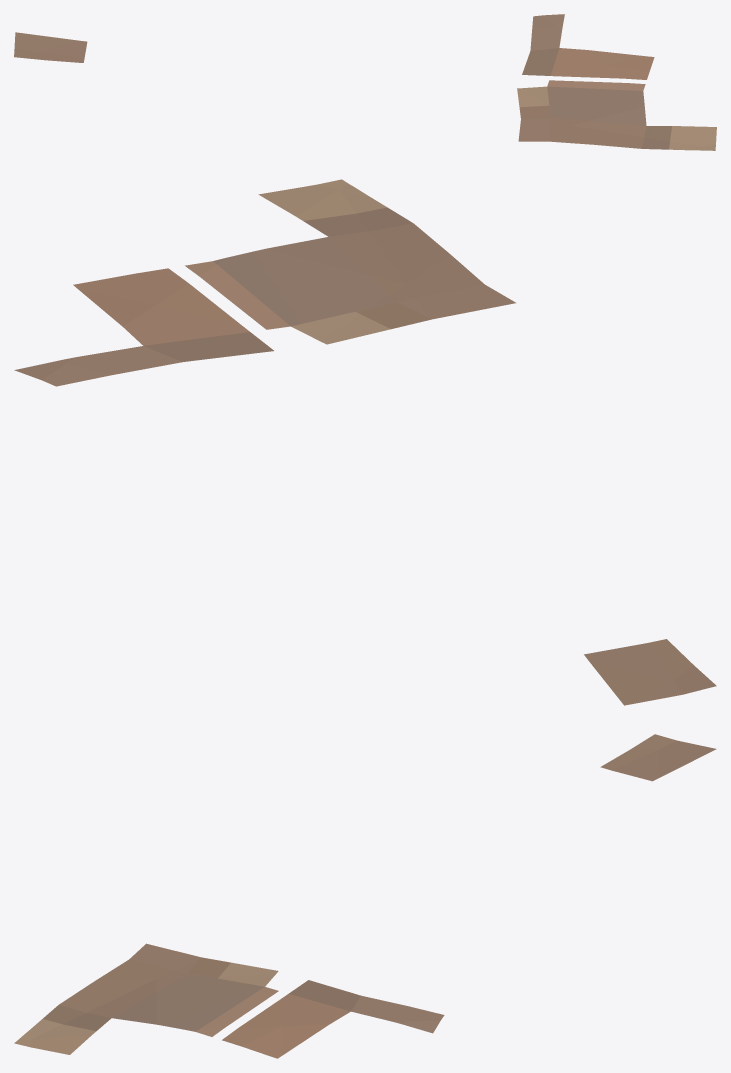
File: farm_7_8_soil.glb
The picture shows the model from 3 angles, top to bottom: view 1: azimuth 30°, elevation 25°; view 2: azimuth 150°, elevation 25°; view 3: azimuth 270°, elevation 25°; orthographic projection. The views are drawn at different scales.
Visible parts, largest first — view 1: geometry_0; view 2: geometry_0; view 3: geometry_0.
Boxes of the visible parts, bbox=[...] form: geometry_0: bbox=[14, 14, 716, 150]; geometry_0: bbox=[14, 179, 716, 705]; geometry_0: bbox=[14, 734, 716, 1058].
Bounding box in the file's own units: 465 × 19.63 × 448.
